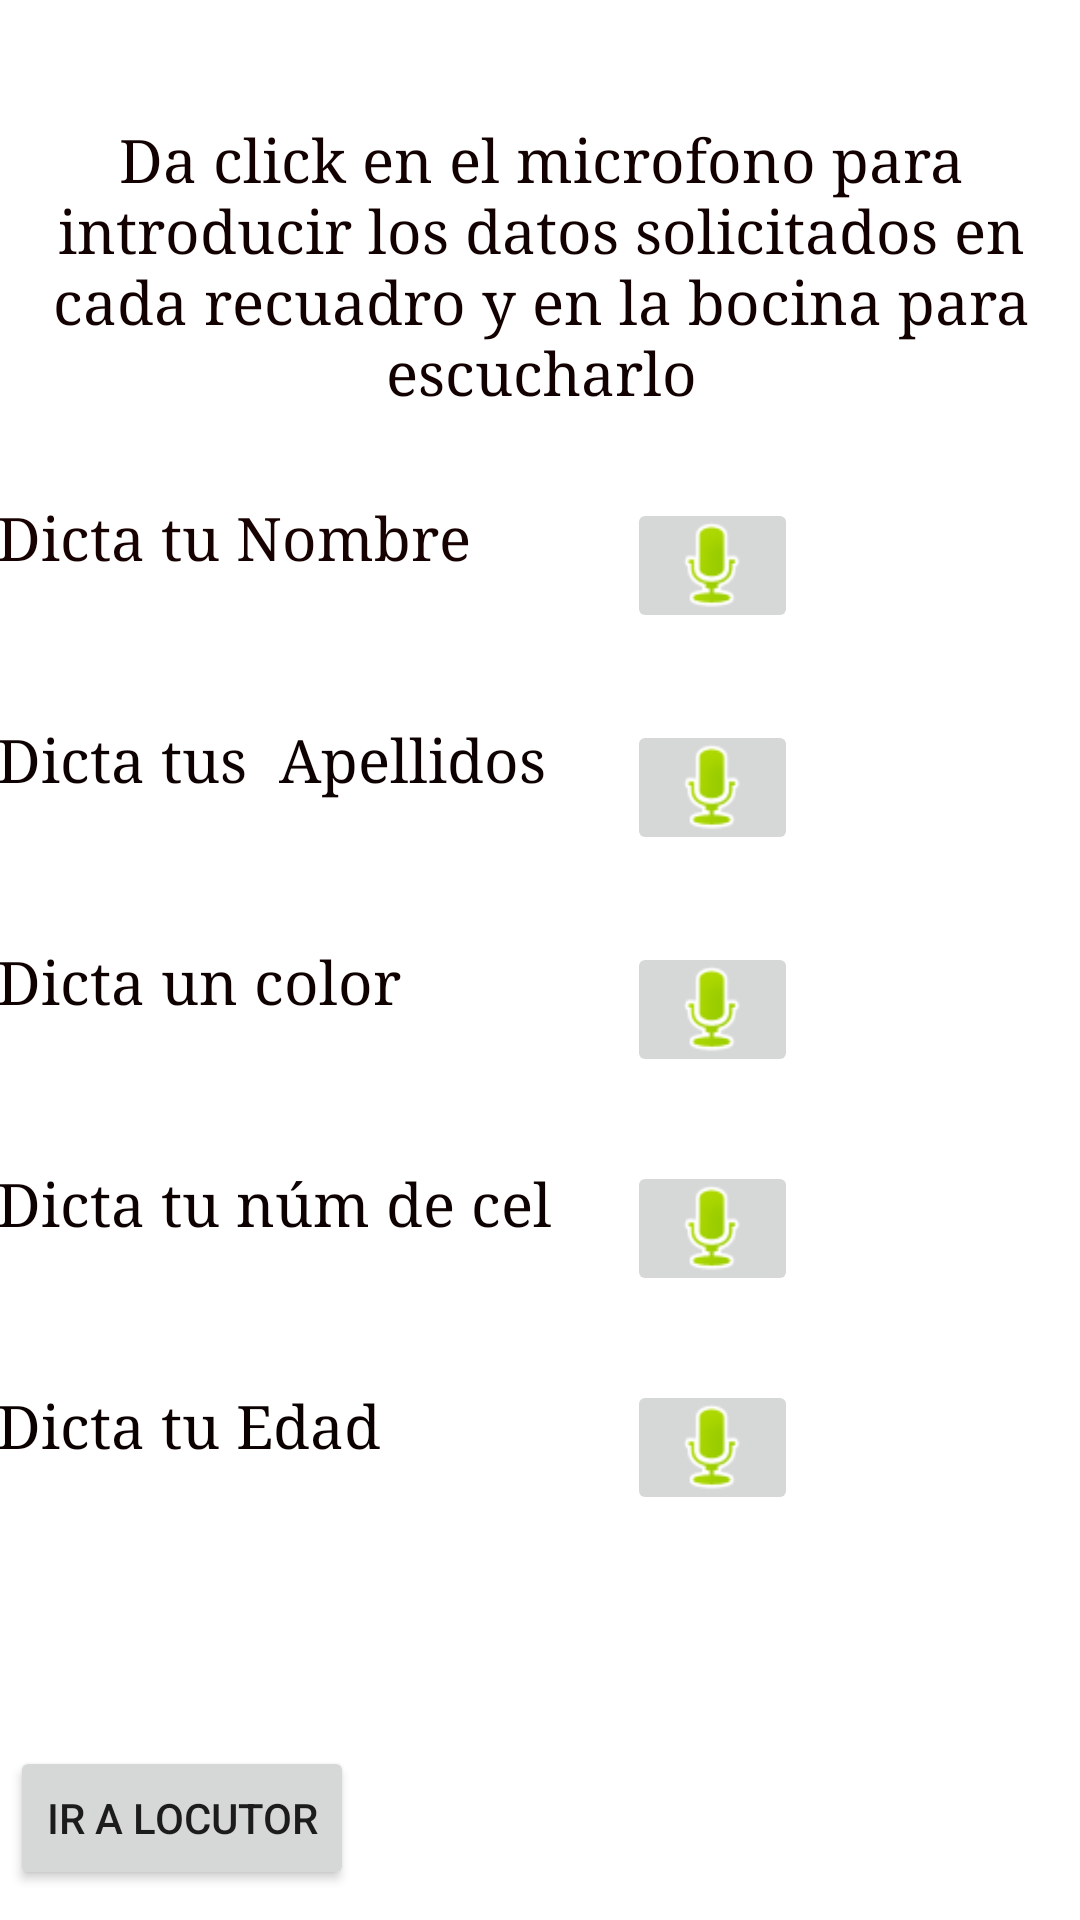

Named icons in this screenshot (1080w x 1920h) and their bounding boxes, (x1=x1, y1=y1, x2=x2, y2=y2):
presence audio online: (x1=639, y1=516, x2=786, y2=615), (x1=639, y1=738, x2=786, y2=837), (x1=639, y1=960, x2=786, y2=1059), (x1=639, y1=1179, x2=786, y2=1278), (x1=639, y1=1398, x2=786, y2=1497)
